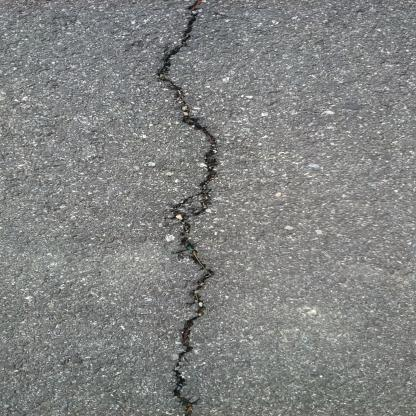Cracks: (136, 1, 241, 416)
